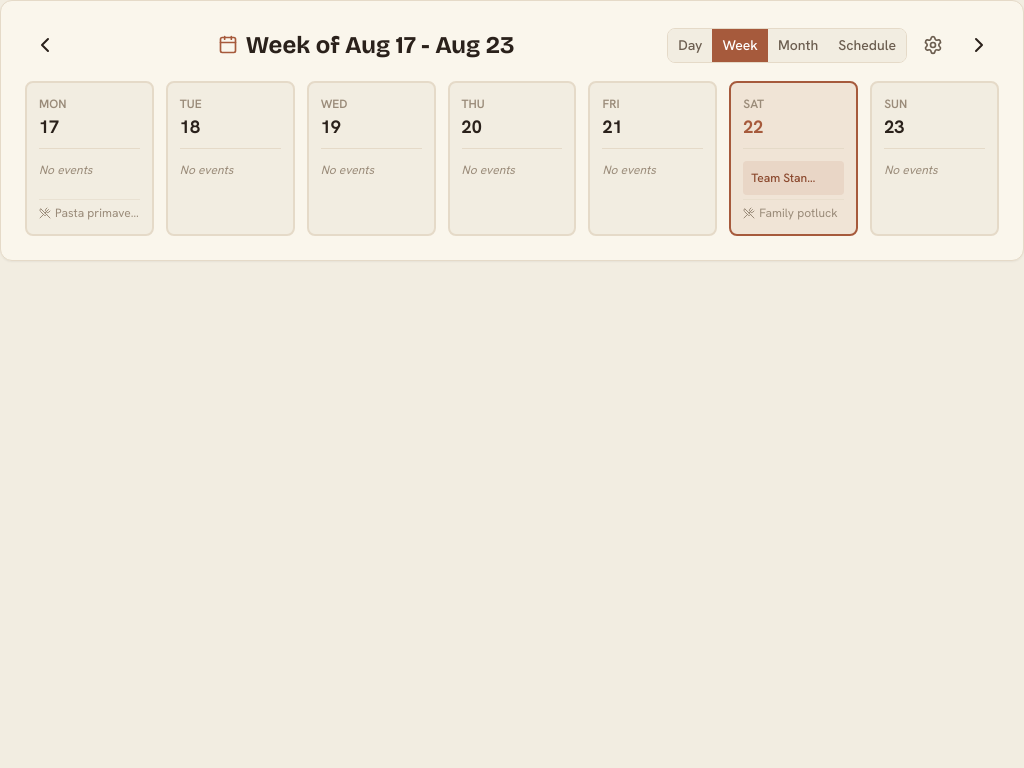
Test: WeekCalendar — interactions › event detail modal › opens the modal with event details when an event is clicked
This screenshot has width=1024, height=768.
Step 1. Click the text "Team Standup" → {"x": 786, "y": 178}, box [751,169,820,187]
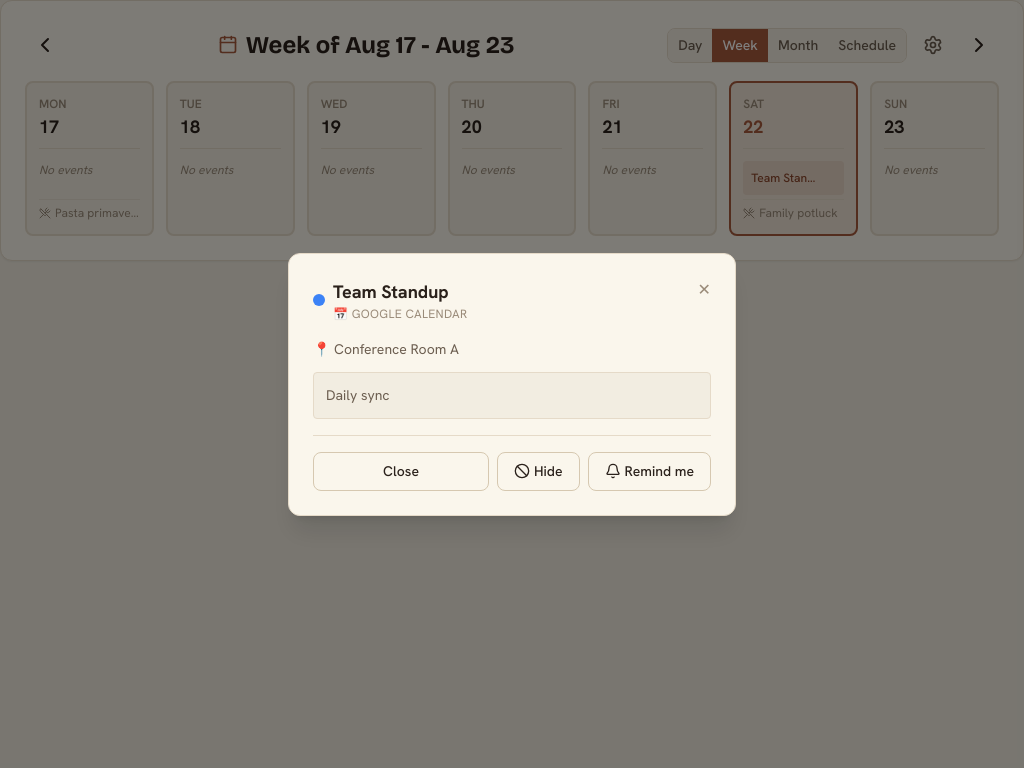
Expected: the text "📍 Conference Room A" is shown, [313,340,459,358]
Expected: the text "Daily sync" is shown, [313,372,711,418]
